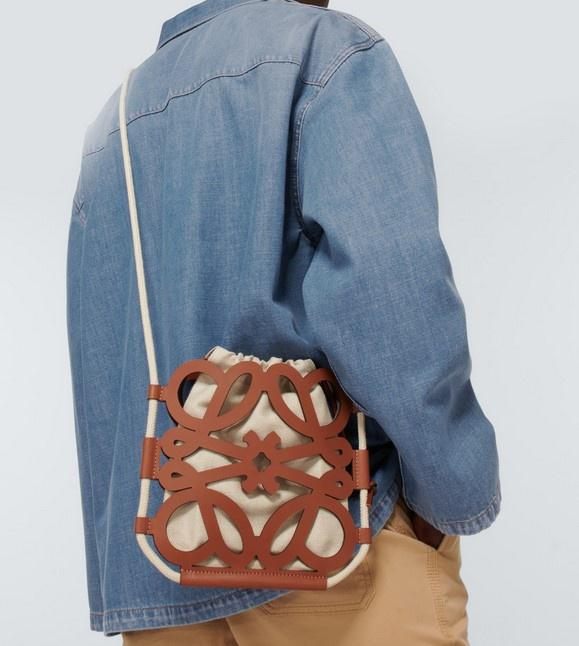LOEWE: (149, 345, 370, 579)
